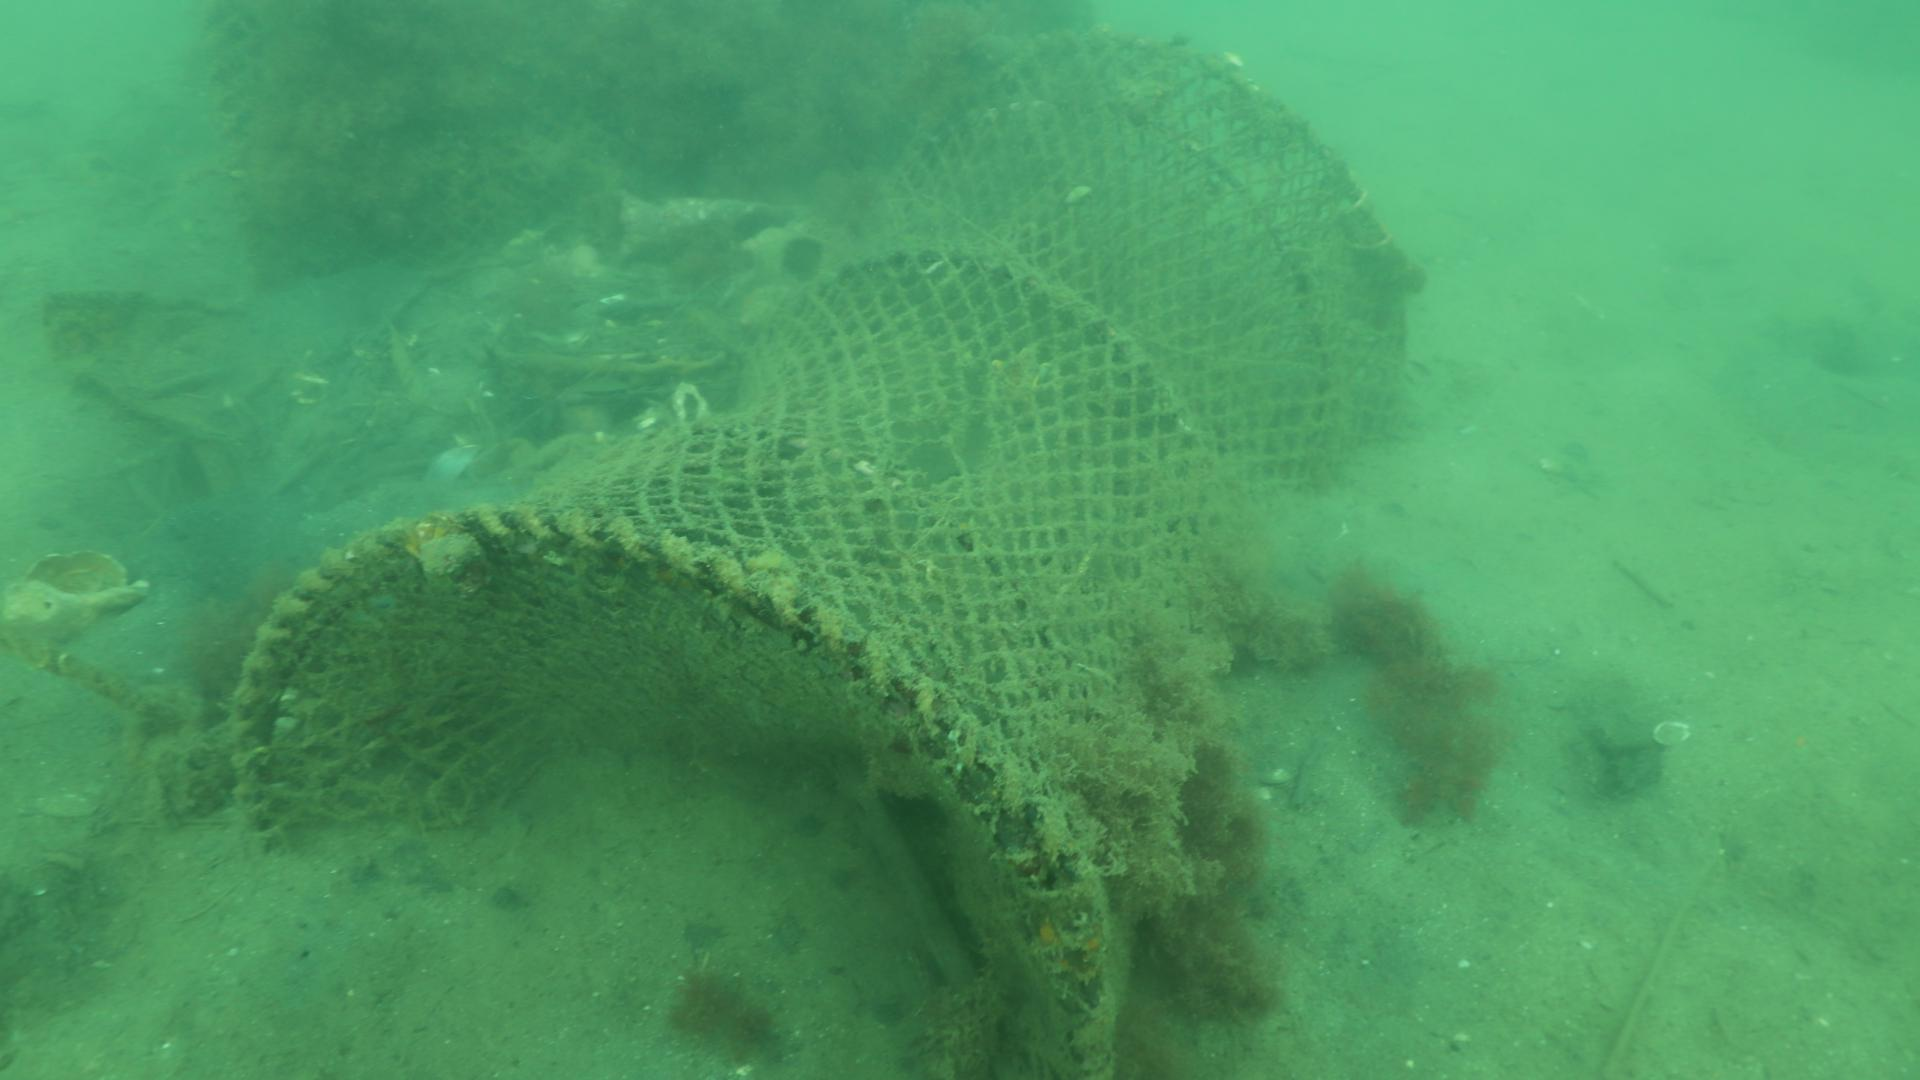spring fish trap: (227, 29, 1428, 1080)
